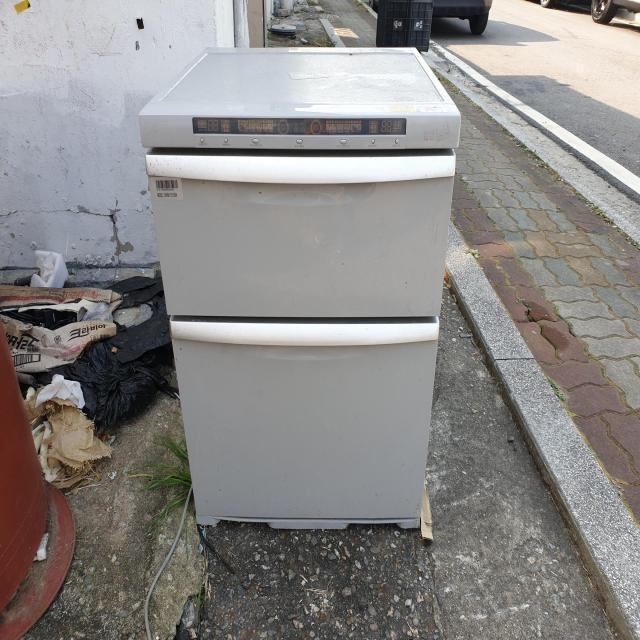refrigerator: (138, 45, 461, 537)
